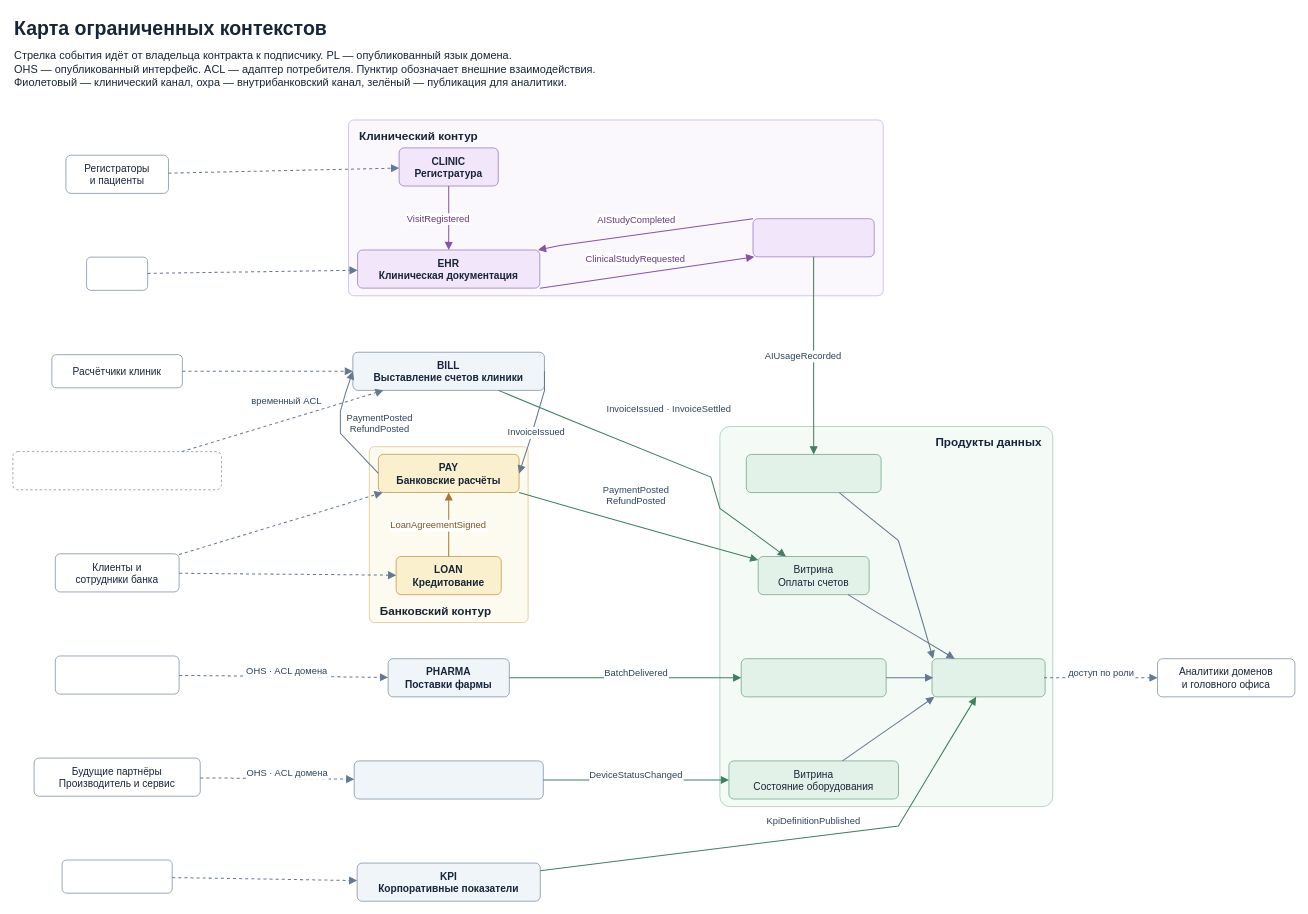
This 1308x914 diagram has some shape labels left out. Each missing label, with the centre of its shape:
AI Медицинский ИИ: point (813, 237)
BI-портал Отчёты по витринам: point (988, 677)
DEVICE Эксплуатация оборудования: point (448, 779)
Витрина Использование ИИ: point (813, 473)
Витрина Поставки по партиям: point (813, 677)
Врачи: point (117, 273)
Головной офис: point (116, 876)
Переходный источник SQL Server 2008 · Apache Camel: point (116, 470)
Фармпоставщик и площадка приёмки: point (117, 674)
